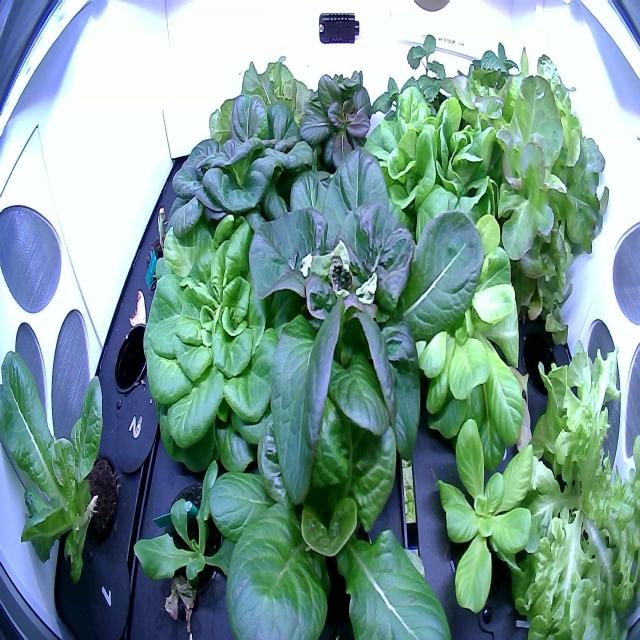Ready: (236, 134, 500, 509), (132, 180, 326, 476), (375, 197, 540, 461), (348, 73, 515, 290), (156, 73, 331, 255)
empty_pod: (109, 309, 162, 403)
young: (198, 334, 462, 638), (416, 407, 547, 631), (128, 434, 268, 631), (292, 51, 382, 187)
